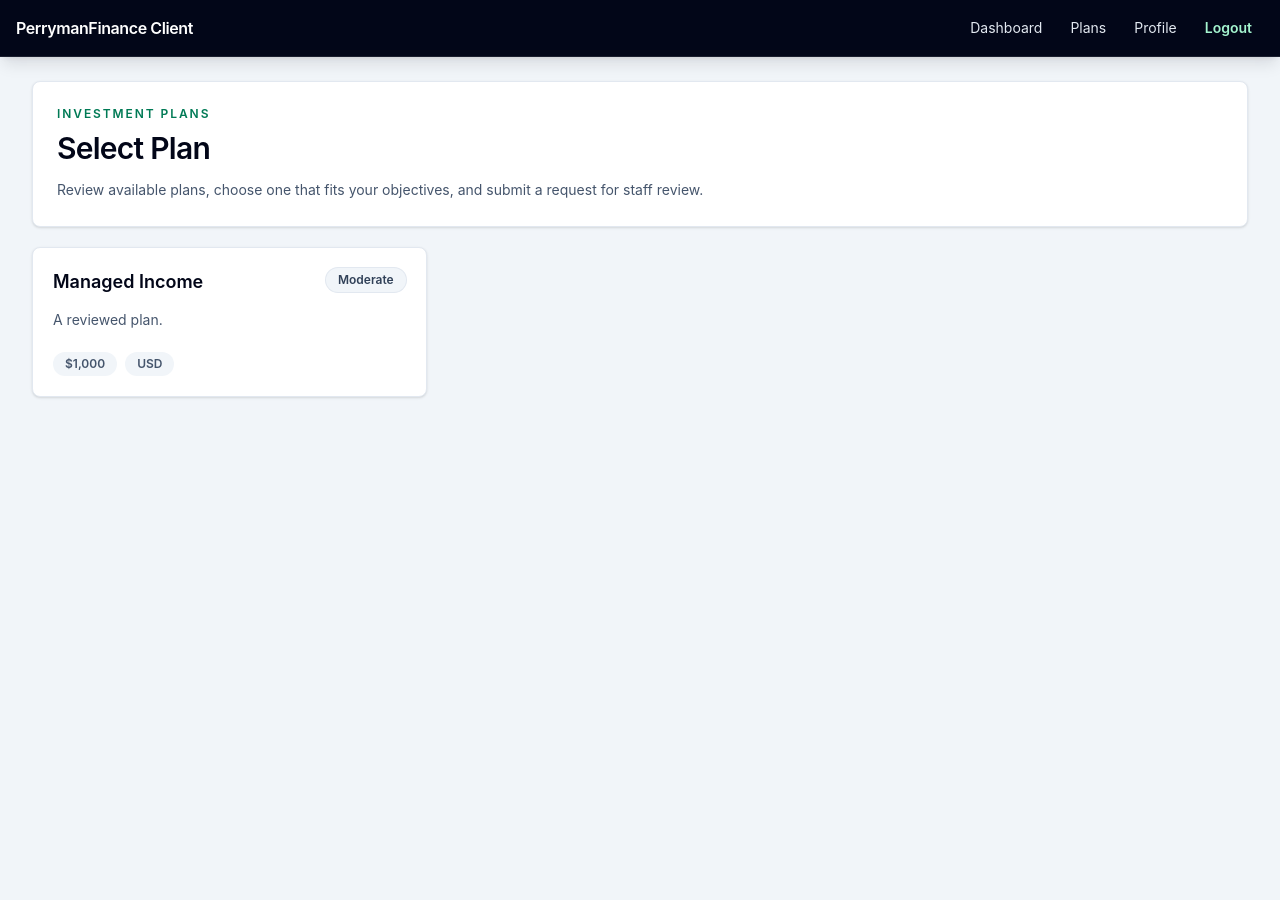
Test: client account pages › submits a plan request only after acknowledgement
Click the button "Managed Income Moderate A reviewed plan. $1,000 USD". click: (128, 282)
box: [32,247,427,397]
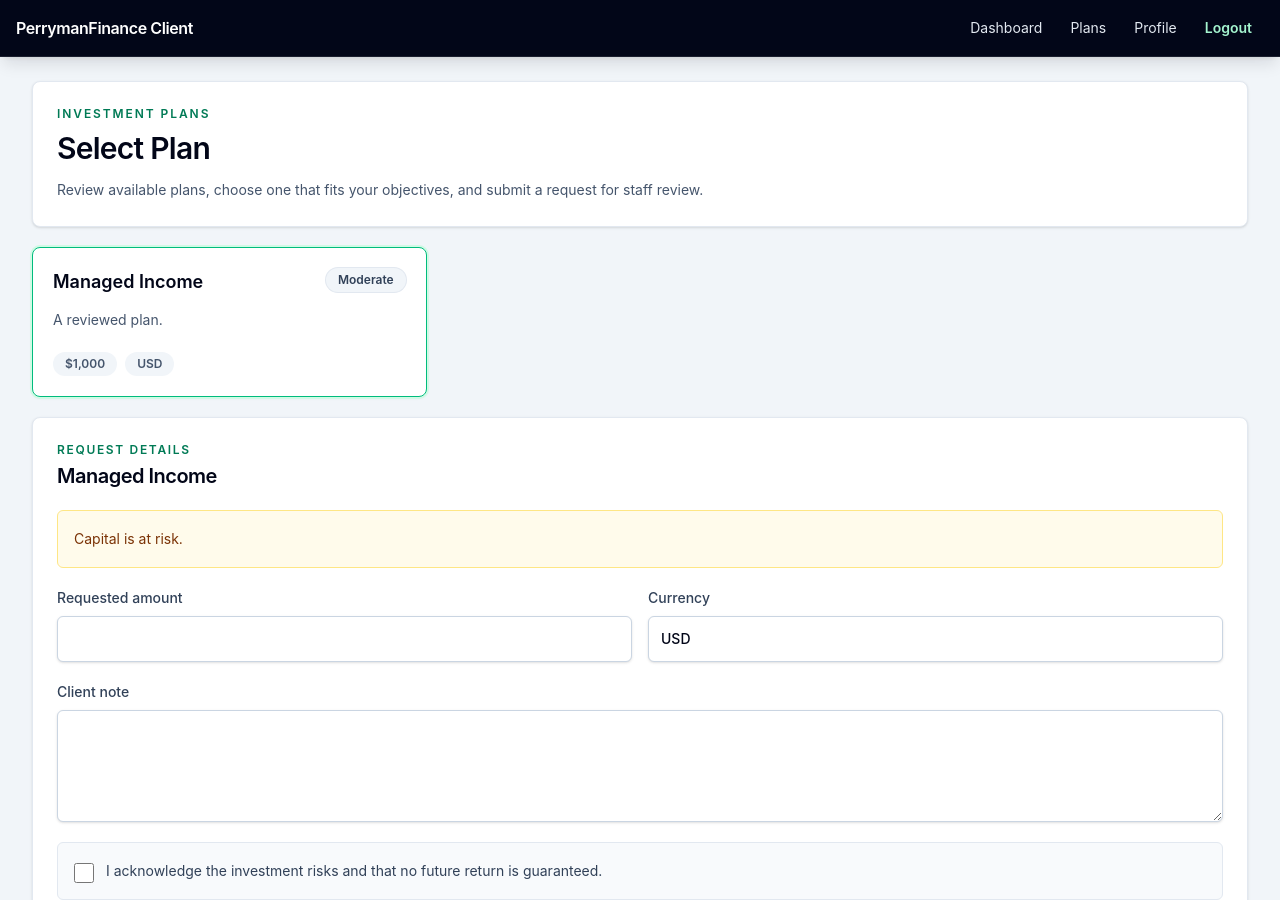
Type "1000" into the number field labelled "Requested amount". click: (344, 639)
box: [57,616,632,662]
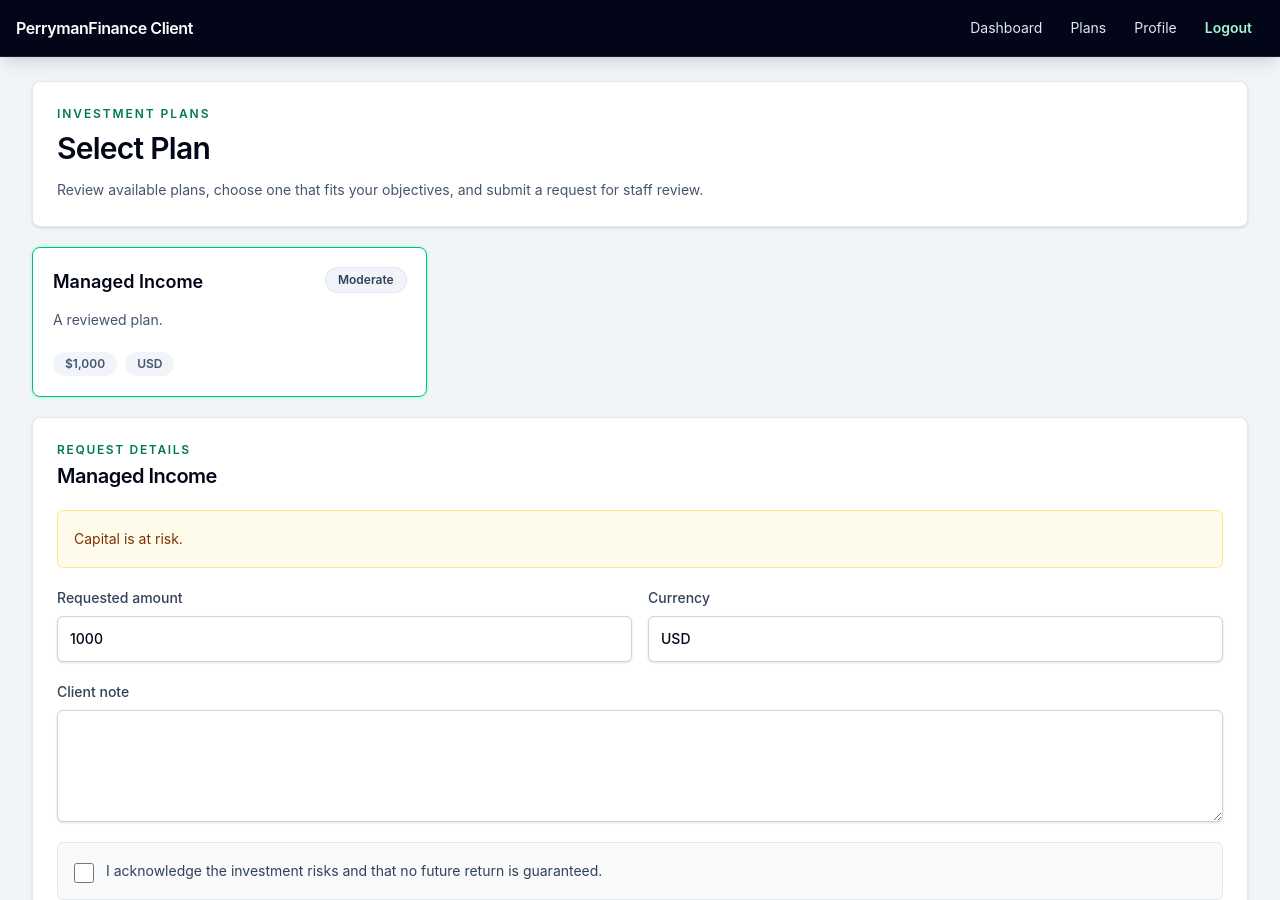
Click the checkbox. click: (84, 873)
box: [74,863,94,883]
(page scrolled)
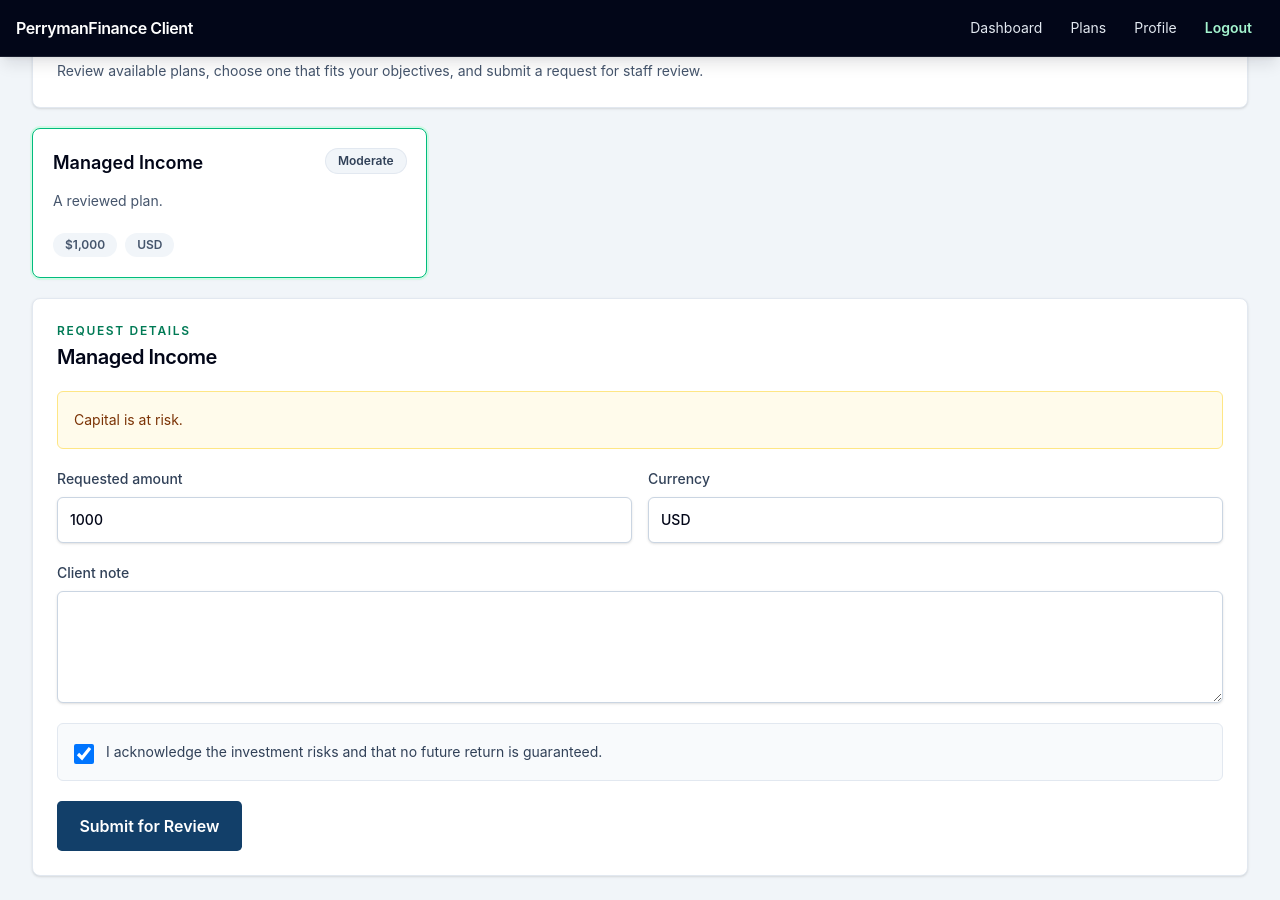
Click the button "Submit for Review". click: (149, 826)
box: [57,801,242,851]
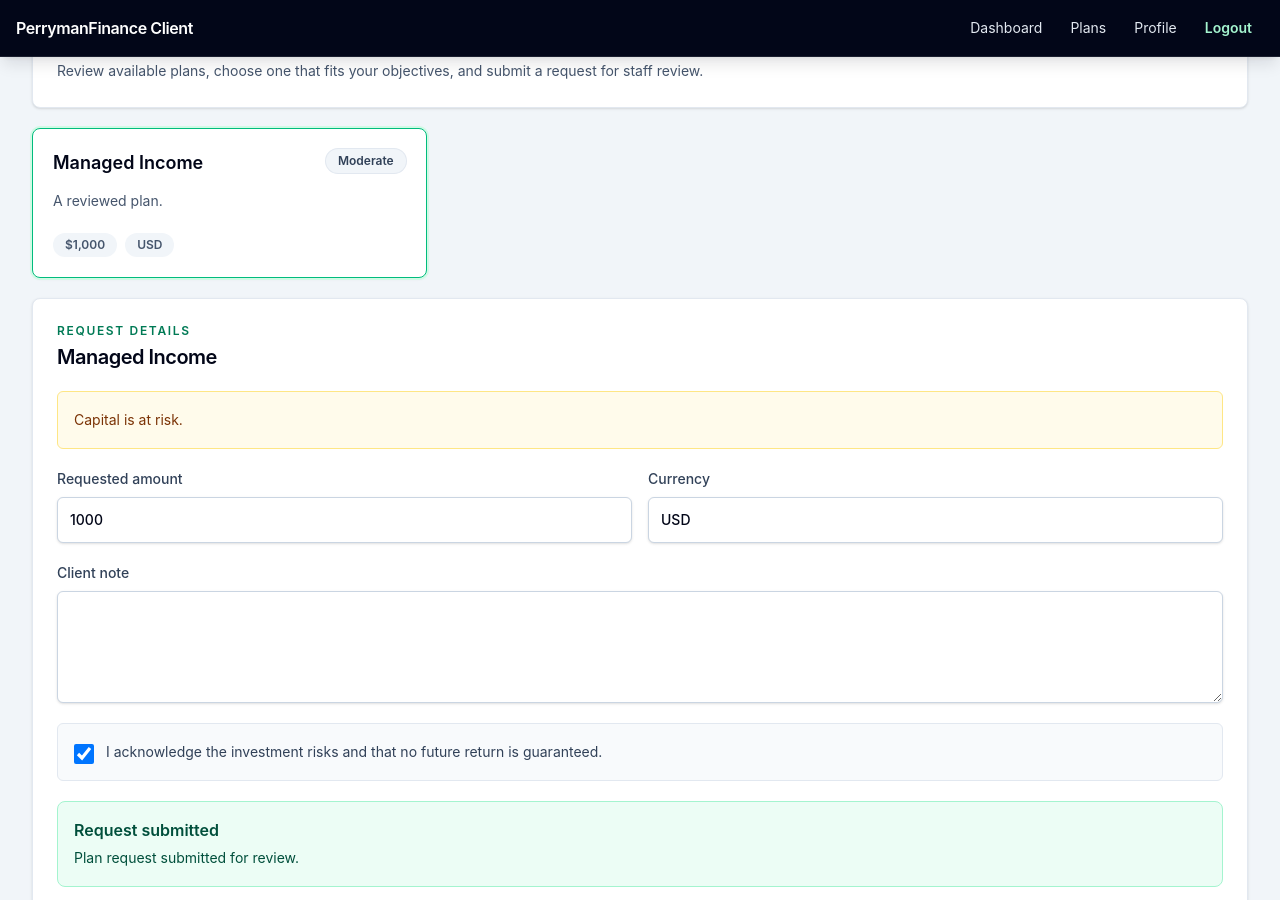
Expected: the text "Plan request submitted for review." is shown, [74,849,299,866]
